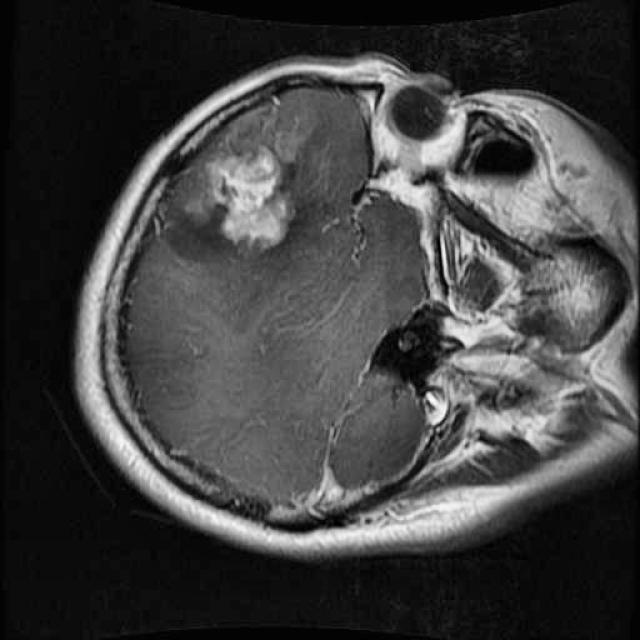Non-Tumor: (198, 132, 309, 265)
